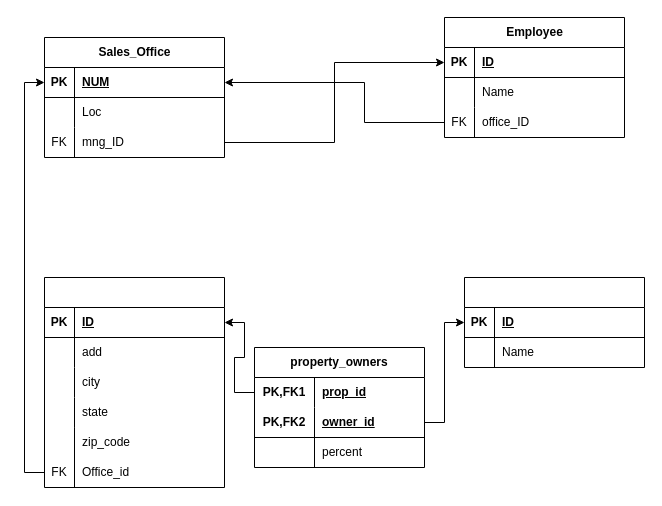
This 662x506 diagram has some shape labels left out. The shapes that lost their labels are listed below. From the top down, each one's box as (x1, y1, x2, y2) in pixels, then its label:
(464, 276, 644, 368): owner
(44, 276, 224, 488): property
